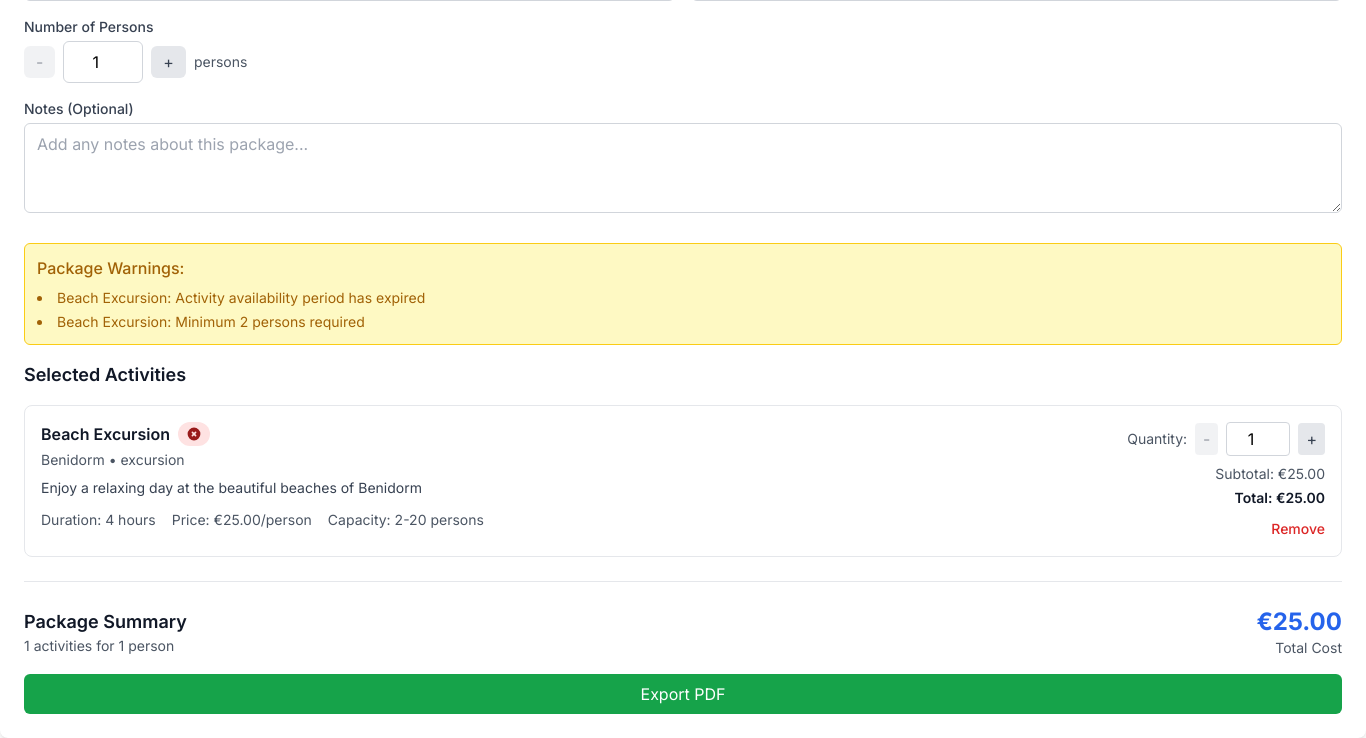
Test: PackageBuilder Component › handles export error
(page scrolled)
What coordinates should you click on to do the following:
click the button "Export PDF"
I would click on:
 (683, 694)
Its box is [24,674,1342,714].
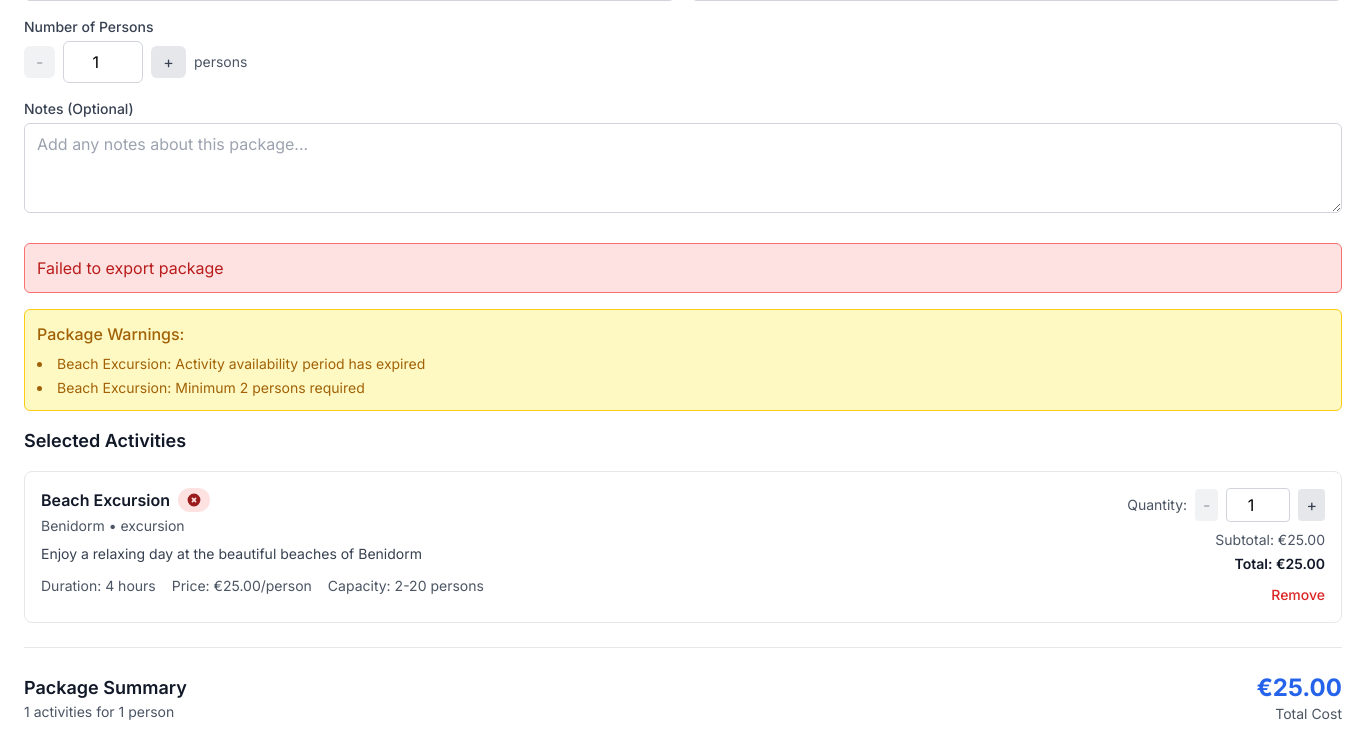
Result: the text "Failed to export package" is shown at [24,243,1342,293]
